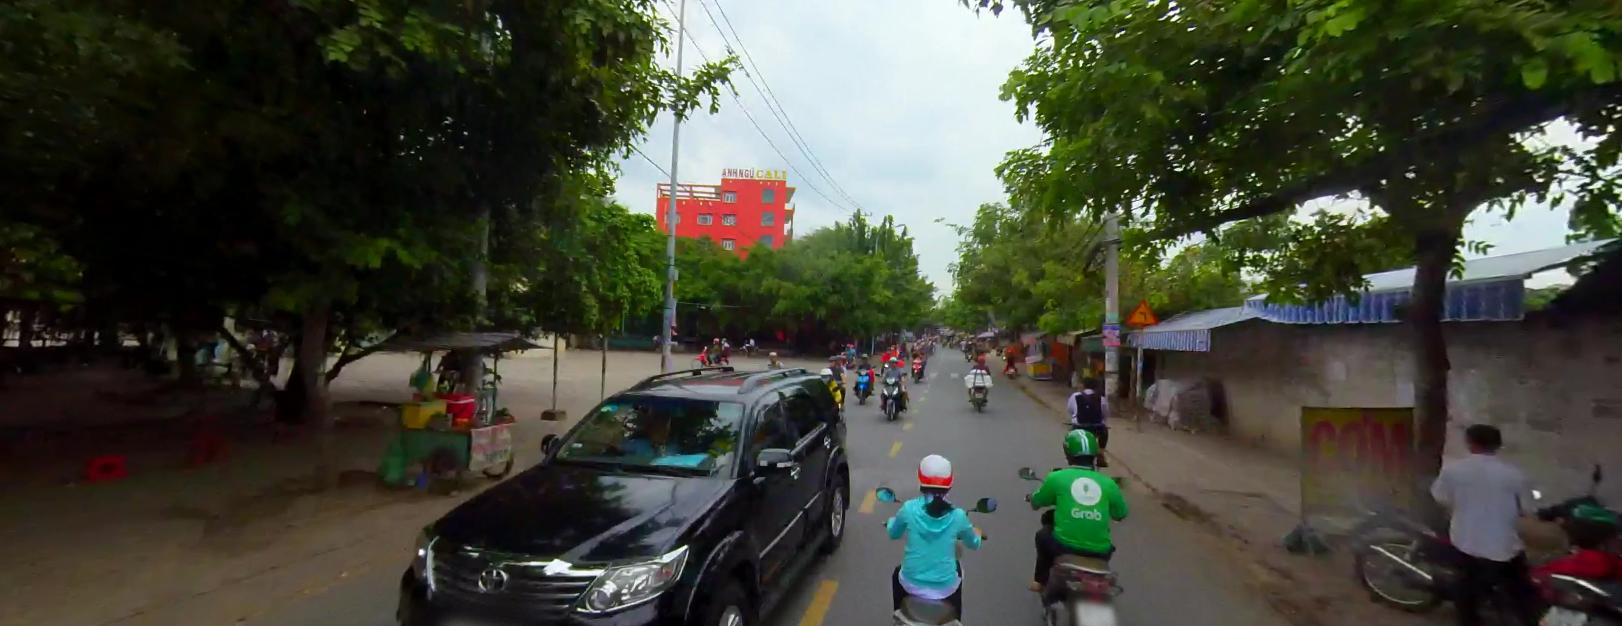Nguy hiem: (1125, 296, 1158, 324), (1127, 296, 1159, 324), (1127, 297, 1157, 324)
